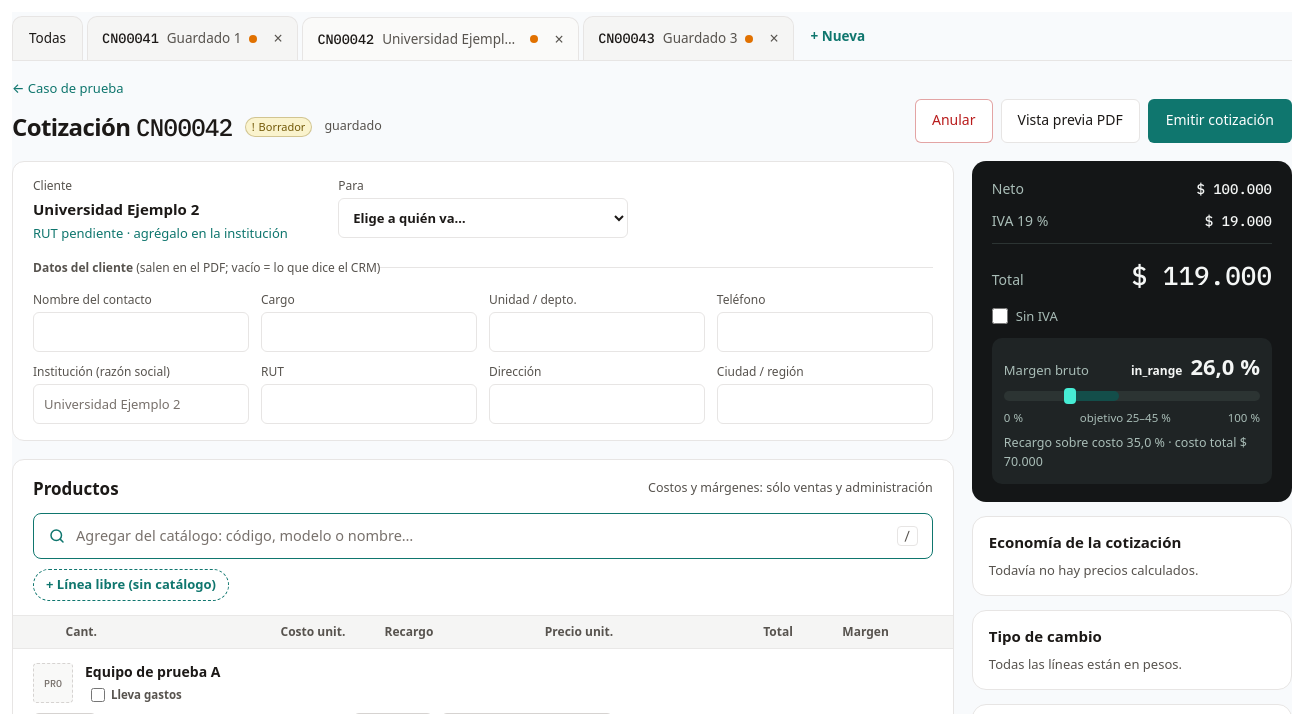
Test: Cotizador module — tabs › restores the tabs on reload, reading only the tab shown; another reads the first time it is shown, then stays mounted
The width and height of the screenshot is (1304, 714).
Expected: the heading "Cotización CN00042" is shown, [12,110,233,142]
Click the tab "CN00043 Guardado 3": (689, 38) [583,16,794,60]
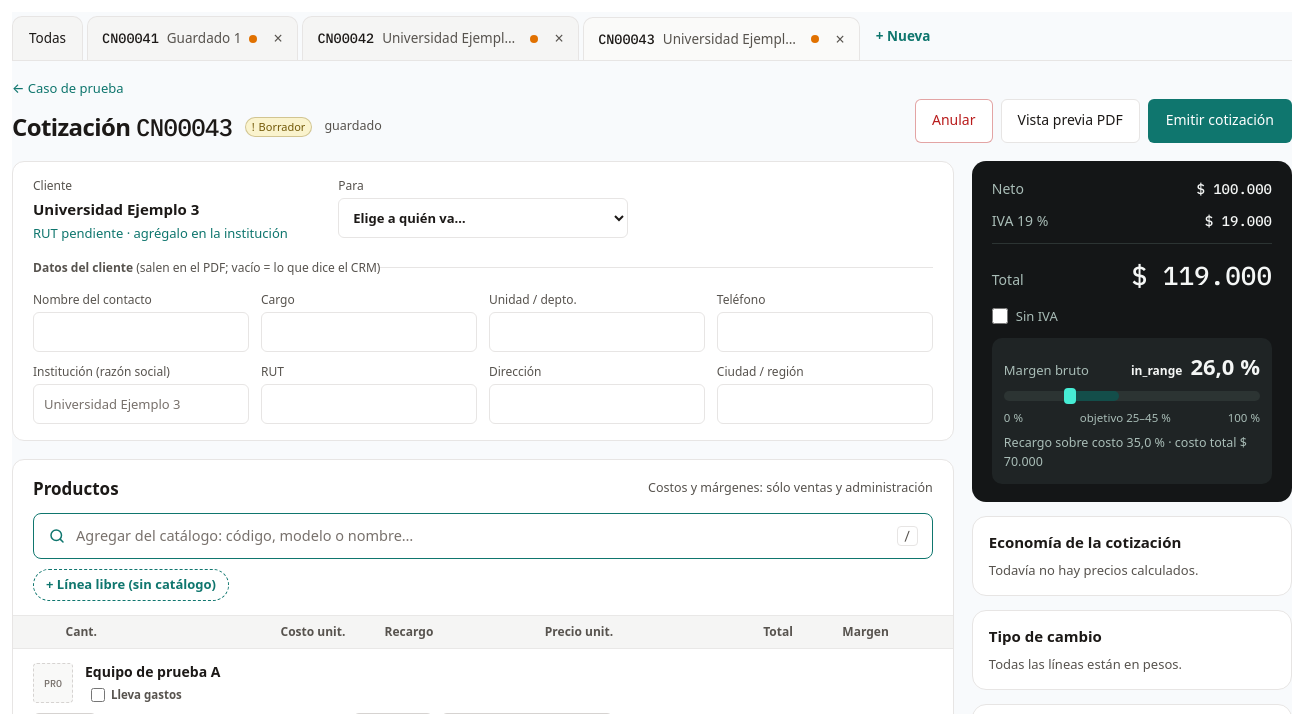
Now the tab "CN00043 Universidad Ejemplo 3" is shown, box [583,17,860,60]
Click the tab "CN00042 Universidad Ejemplo 2": (441, 38) [302,16,579,60]
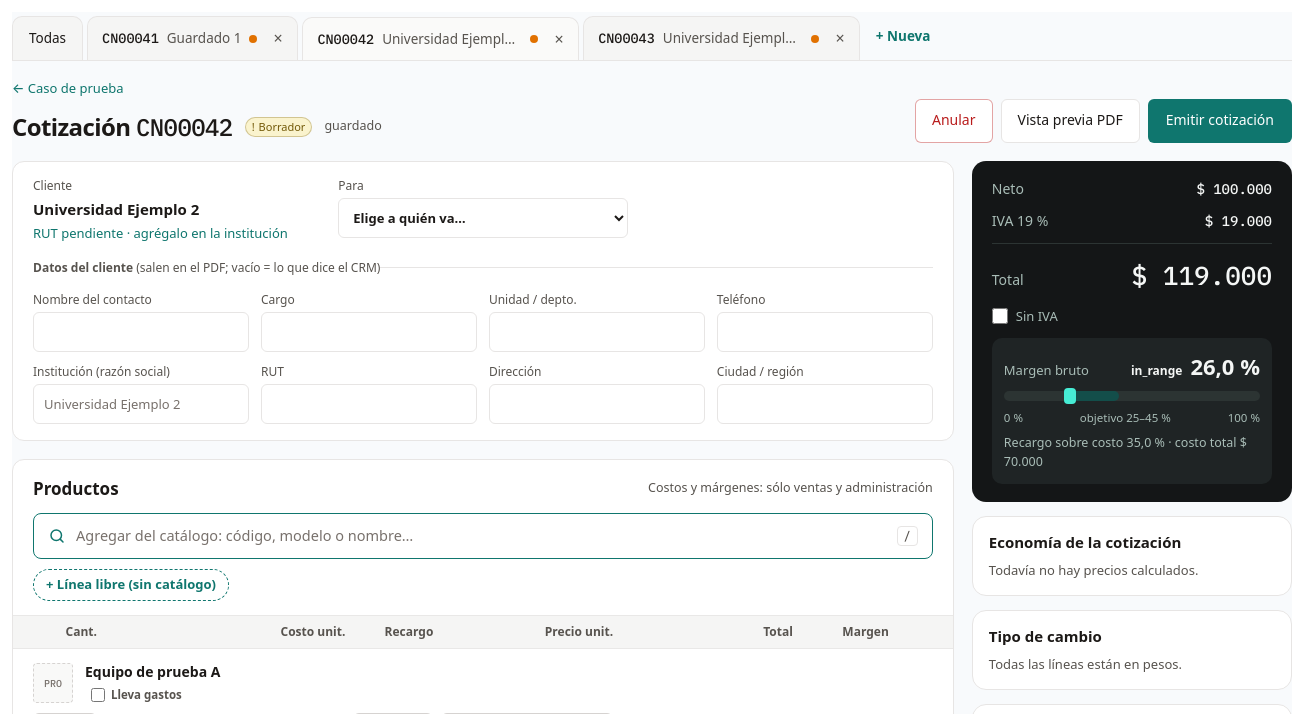
Now the heading "Cotización CN00042" is shown, box [12,110,233,142]
